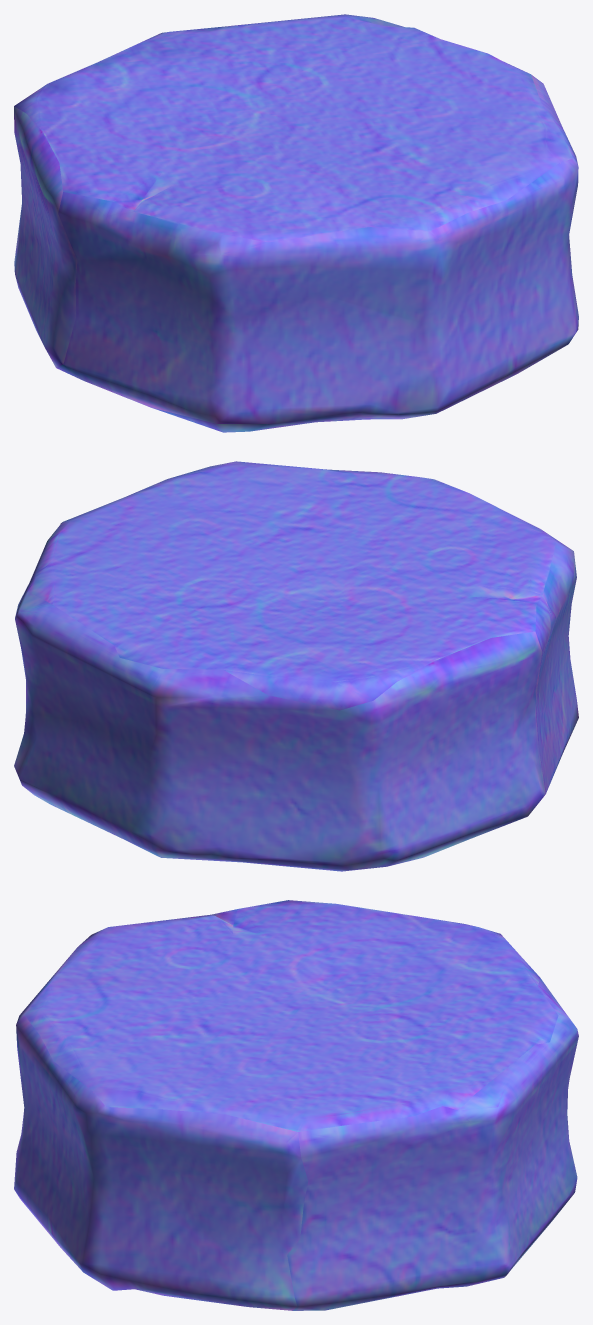
File: pillar_bottom_02a.fbx
3 views of the same model, one above another, from view 1: azimuth 30°, elevation 25°; view 2: azimuth 150°, elevation 25°; view 3: azimuth 270°, elevation 25° (orthographic).
Parts seen in each view (by area): view 1: pillar_bottom_02a_LOD0; view 2: pillar_bottom_02a_LOD0; view 3: pillar_bottom_02a_LOD0.
Boxes of the visible parts, box(x1,y1,x2,y2) form: pillar_bottom_02a_LOD0: box(14, 14, 578, 432); pillar_bottom_02a_LOD0: box(14, 461, 578, 871); pillar_bottom_02a_LOD0: box(14, 900, 578, 1310).
Bounding box in the file's own units: 40.95 × 40.89 × 16.
1 material, 1 textured.
